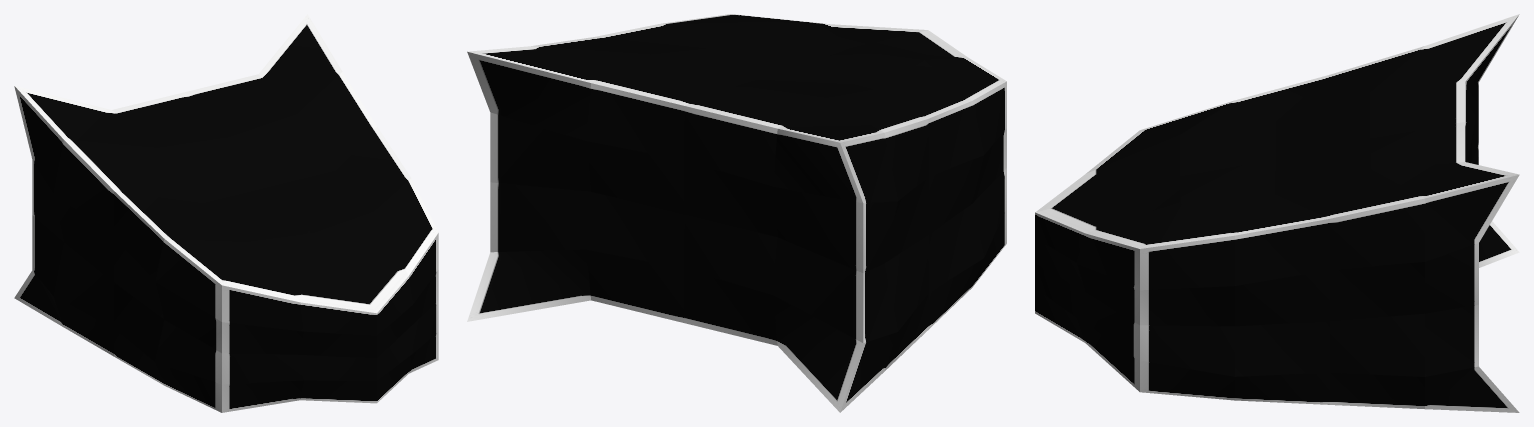
The model's file is Enemy.fbx.
3 renders of one model, left to right at view 1: azimuth 30°, elevation 25°; view 2: azimuth 150°, elevation 25°; view 3: azimuth 270°, elevation 25°, orthographic. The views are drawn at different scales.
Visible parts, largest first — view 1: Enemy; view 2: Enemy; view 3: Enemy.
Boxes of the visible parts, x1,y1,x2,y2 form: Enemy: [14, 14, 438, 412]; Enemy: [467, 14, 1006, 412]; Enemy: [1035, 14, 1519, 412].
Size of the model in its own units: 1.02 by 0.6928 by 1.28.
